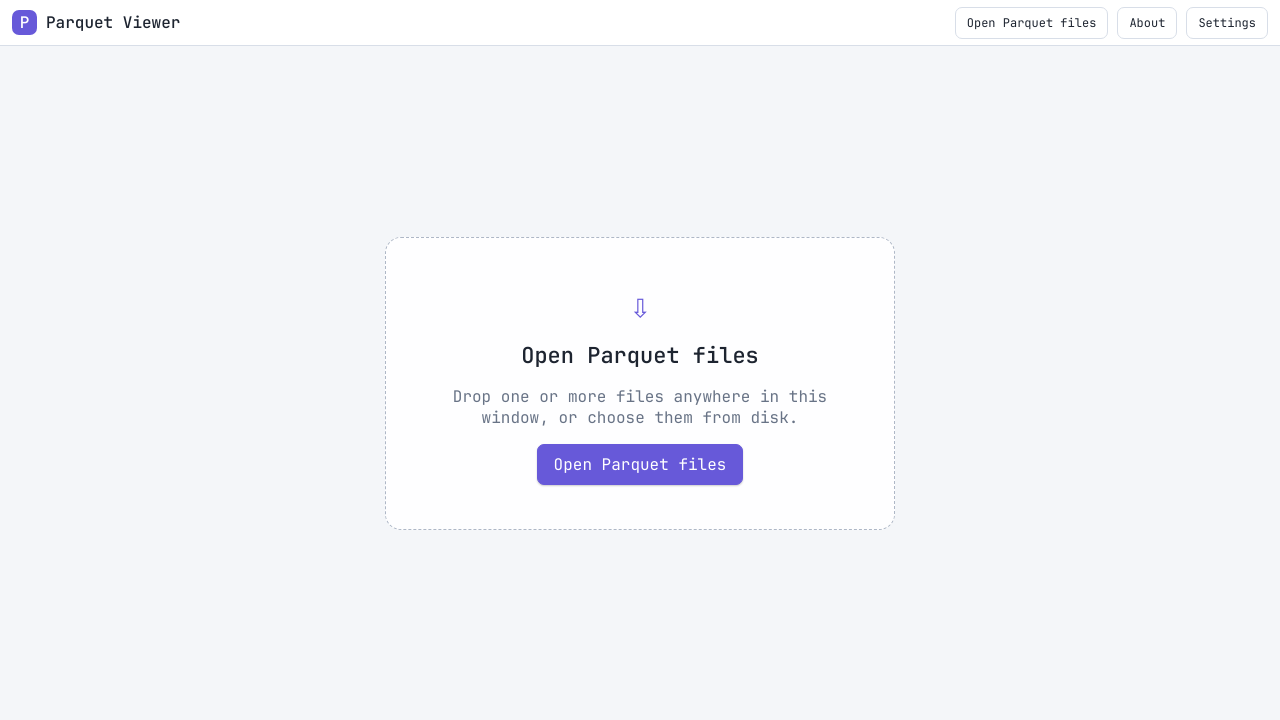
opens the About dialog
Click the button "About" at (1147, 22), box [1117,6,1177,38]
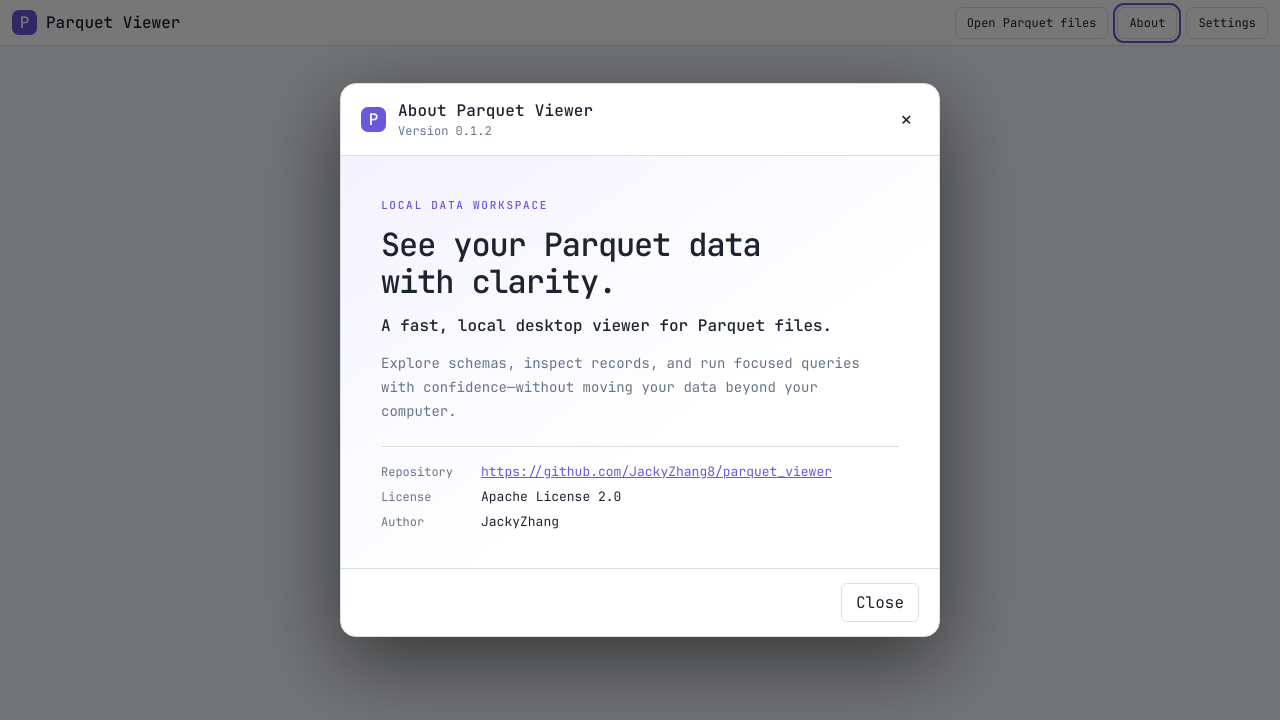
Now the dialog "About Parquet Viewer" shows "A fast, local desktop viewer for Parquet files.", box [381,315,832,336]
